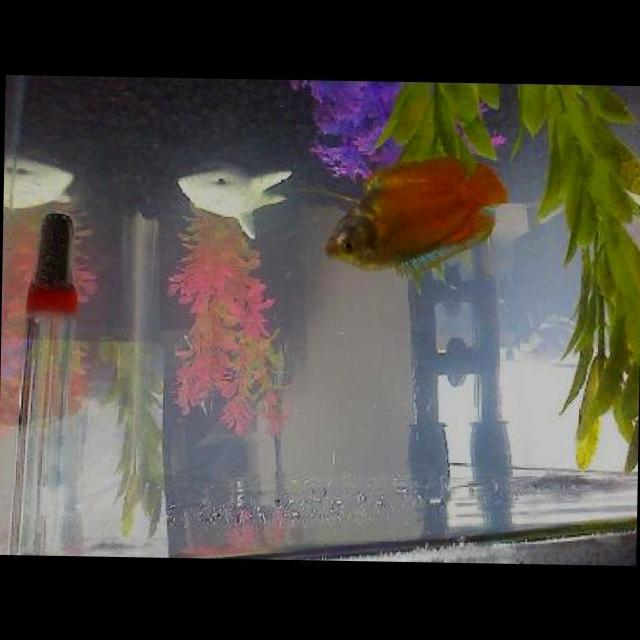Gourami: (323, 155, 509, 282)
